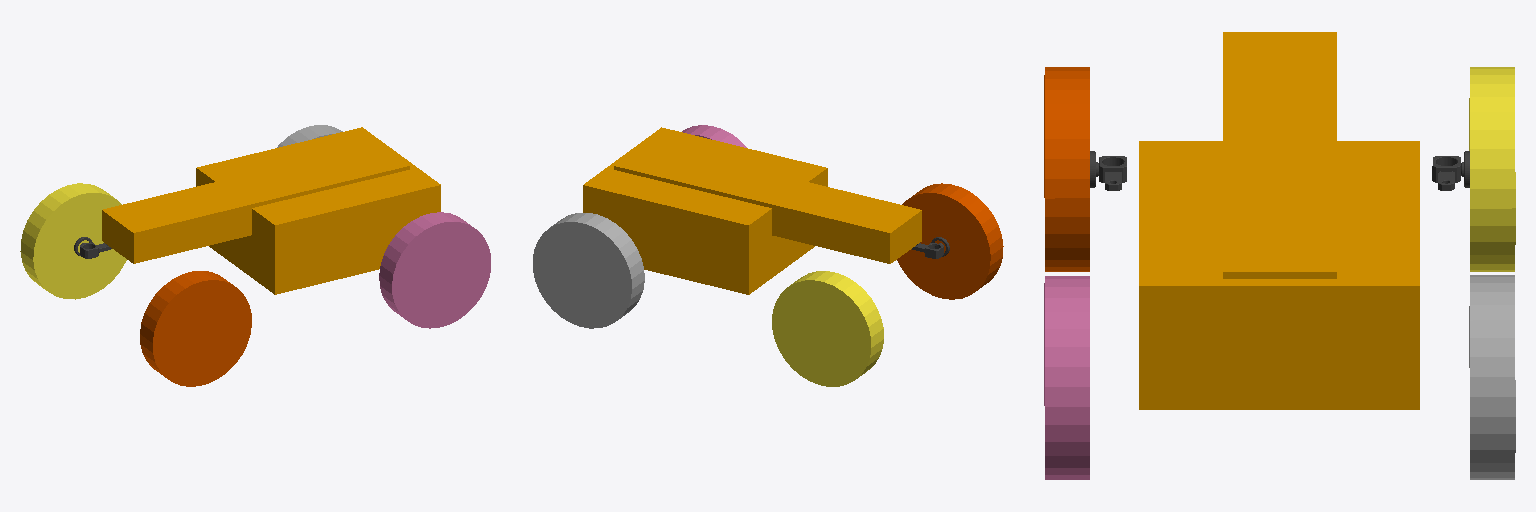
robot.urdf — hunter_v1:
<?xml version="1.0" encoding="utf-8"?>
<!-- =================================================================================== -->
<!-- |    This document was autogenerated by xacro from hunter_v1.xacro                | -->
<!-- |    EDITING THIS FILE BY HAND IS NOT RECOMMENDED                                 | -->
<!-- =================================================================================== -->
<robot name="hunter_v1">
  <!-- Base link -->
  <link name="base_link">
    <visual>
      <origin rpy="0 0 0" xyz="0 0 0"/>
      <geometry>
        <mesh filename="package://hunter_description/meshes/base_link.dae"/>
      </geometry>
    </visual>
    <visual>
      <origin rpy="0 0 0" xyz="0 0 0.12"/>
      <geometry>
        <box size="0.75 0.15 0.08"/>
      </geometry>
    </visual>
    <visual>
      <origin rpy="0 0 0" xyz="0.17 0 0.06"/>
      <geometry>
        <box size="0.45 0.37 0.18"/>
      </geometry>
    </visual>
    <collision>
      <origin rpy="0 0 0" xyz="0.29 0 0.05"/>
      <geometry>
        <box size="0.25 0.38 0.26"/>
      </geometry>
    </collision>
    <collision>
      <origin rpy="0 0 0" xyz="-0.1 0 0.07"/>
      <geometry>
        <box size="0.56 0.38 0.22"/>
      </geometry>
    </collision>
    <inertial>
      <mass value="40"/>
      <origin xyz="0.0 0.0 0.0"/>
      <inertia ixx="2.288641" ixy="0" ixz="0" iyy="5.103976" iyz="0" izz="3.431465"/>
    </inertial>
  </link>
  <link name="base_footprint"/>
  <joint name="base_footprint_joint" type="fixed">
    <origin rpy="0 0 0" xyz="0 0 -0.18109"/>
    <parent link="base_link"/>
    <child link="base_footprint"/>
  </joint>
  <!-- front right wheel -->
  <joint name="front_right_steering" type="revolute">
    <origin rpy="0 0 0" xyz="-0.324285 0.22 -0.0165"/>
    <parent link="base_link"/>
    <child link="front_right_steer_link"/>
    <axis rpy="0 0 0" xyz="0 0 1"/>
    <limit effort="20" lower="-0.785" upper="0.785" velocity="0.8"/>
  </joint>
  <link name="front_right_steer_link">
    <inertial>
      <mass value="3"/>
      <origin xyz="0 0 0"/>
      <inertia ixx="0.7171" ixy="0" ixz="0" iyy="0.1361" iyz="0" izz="0.7171"/>
    </inertial>
    <visual>
      <origin rpy="0 0 0" xyz="0 0.06 0"/>
      <geometry>
        <mesh filename="package://hunter_description/meshes/steer_conn_fr.dae"/>
      </geometry>
    </visual>
  </link>
  <joint name="front_right_wheel" type="continuous">
    <origin rpy="0 0 0" xyz="0 0.06 0"/>
    <parent link="front_right_steer_link"/>
    <child link="front_right_wheel_link"/>
    <axis rpy="0 0 0" xyz="0 -1 0"/>
  </joint>
  <link name="front_right_wheel_link">
    <inertial>
      <mass value="3"/>
      <origin xyz="0 0 0"/>
      <inertia ixx="0.7171" ixy="0" ixz="0" iyy="0.1361" iyz="0" izz="0.7171"/>
    </inertial>
    <visual>
      <origin rpy="0 0 0" xyz="0 0 0"/>
      <geometry>
        <mesh filename="package://hunter_description/meshes/wheel_fr.dae"/>
      </geometry>
    </visual>
    <visual>
      <origin rpy="0 0 0" xyz="0 0 0"/>
      <geometry>
        <mesh filename="package://hunter_description/meshes/hub_shape.stl"/>
      </geometry>
    </visual>
    <collision>
      <origin rpy="1.570795 0 0" xyz="0 0 0"/>
      <geometry>
        <cylinder length="0.11653" radius="0.16459"/>
      </geometry>
    </collision>
  </link>
  <!-- front left wheel -->
  <joint name="front_left_steering" type="revolute">
    <origin rpy="0 0 0" xyz="-0.324285 -0.22 -0.0165"/>
    <parent link="base_link"/>
    <child link="front_left_steer_link"/>
    <axis rpy="0 0 0" xyz="0 0 1"/>
    <limit effort="20" lower="-0.785" upper="0.785" velocity="0.8"/>
  </joint>
  <link name="front_left_steer_link">
    <inertial>
      <mass value="3"/>
      <origin xyz="0 0 0"/>
      <inertia ixx="0.7171" ixy="0" ixz="0" iyy="0.1361" iyz="0" izz="0.7171"/>
    </inertial>
    <visual>
      <origin rpy="0 0 0" xyz="0 -0.06 0"/>
      <geometry>
        <mesh filename="package://hunter_description/meshes/steer_conn_fl.dae"/>
      </geometry>
    </visual>
  </link>
  <joint name="front_left_wheel" type="continuous">
    <origin rpy="0 0 0" xyz="0 -0.06 0"/>
    <parent link="front_left_steer_link"/>
    <child link="front_left_wheel_link"/>
    <axis rpy="0 0 0" xyz="0 -1 0"/>
  </joint>
  <link name="front_left_wheel_link">
    <inertial>
      <mass value="3"/>
      <origin xyz="0 0 0"/>
      <inertia ixx="0.7171" ixy="0" ixz="0" iyy="0.1361" iyz="0" izz="0.7171"/>
    </inertial>
    <visual>
      <origin rpy="0 0 0" xyz="0 0 0"/>
      <geometry>
        <mesh filename="package://hunter_description/meshes/wheel_fl.dae"/>
      </geometry>
    </visual>
    <visual>
      <origin rpy="0 0 3.14" xyz="0 0 0"/>
      <geometry>
        <mesh filename="package://hunter_description/meshes/hub_shape.stl"/>
      </geometry>
    </visual>
    <collision>
      <origin rpy="1.570795 0 0" xyz="0 0 0"/>
      <geometry>
        <cylinder length="0.11653" radius="0.16459"/>
      </geometry>
    </collision>
  </link>
  <!-- rear left wheel -->
  <link name="rear_left_wheel_link">
    <inertial>
      <mass value="3"/>
      <origin xyz="0 0 0"/>
      <inertia ixx="0.7171" ixy="0" ixz="0" iyy="0.1361" iyz="0" izz="0.7171"/>
    </inertial>
    <visual>
      <origin rpy="0 0 0" xyz="0 0 0"/>
      <geometry>
        <mesh filename="package://hunter_description/meshes/wheel_rl.dae"/>
      </geometry>
    </visual>
    <visual>
      <origin rpy="0 0 3.14" xyz="0 0 0"/>
      <geometry>
        <mesh filename="package://hunter_description/meshes/hub_shape.stl"/>
      </geometry>
    </visual>
    <collision>
      <origin rpy="1.570795 0 0" xyz="0 0 0"/>
      <geometry>
        <cylinder length="0.11653" radius="0.16459"/>
      </geometry>
    </collision>
  </link>
  <joint name="rear_left_wheel" type="continuous">
    <origin rpy="0 0 0" xyz="0.324285 -0.28 -0.0165"/>
    <parent link="base_link"/>
    <child link="rear_left_wheel_link"/>
    <axis rpy="0 0 0" xyz="0 -1 0"/>
  </joint>
  <!-- rear right wheel -->
  <link name="rear_right_wheel_link">
    <inertial>
      <mass value="3"/>
      <origin xyz="0 0 0"/>
      <inertia ixx="0.7171" ixy="0" ixz="0" iyy="0.1361" iyz="0" izz="0.7171"/>
    </inertial>
    <visual>
      <origin rpy="0 0 0" xyz="0 0 0"/>
      <geometry>
        <mesh filename="package://hunter_description/meshes/wheel_rr.dae"/>
      </geometry>
    </visual>
    <visual>
      <origin rpy="0 0 0" xyz="0 0 0"/>
      <geometry>
        <mesh filename="package://hunter_description/meshes/hub_shape.stl"/>
      </geometry>
    </visual>
    <collision>
      <origin rpy="1.570795 0 0" xyz="0 0 0"/>
      <geometry>
        <cylinder length="0.11653" radius="0.16459"/>
      </geometry>
    </collision>
  </link>
  <joint name="rear_right_wheel" type="continuous">
    <origin rpy="0 0 0" xyz="0.324285 0.28 -0.0165"/>
    <parent link="base_link"/>
    <child link="rear_right_wheel_link"/>
    <axis rpy="0 0 0" xyz="0 -1 0"/>
  </joint>
</robot>

--- Facts derived from the render (not from the file) ---
The picture shows the robot from 3 angles, left to right: view 1: azimuth 30°, elevation 25°; view 2: azimuth 150°, elevation 25°; view 3: azimuth 270°, elevation 25°; orthographic projection.
Model hunter_v1 with 8 links and 7 joints (2 revolute, 4 continuous, 1 fixed), rooted at base_link, posed every joint at zero.
Visible links, largest first — view 1: base_link, front_left_wheel_link, rear_left_wheel_link, front_right_wheel_link, rear_right_wheel_link; view 2: base_link, front_right_wheel_link, rear_right_wheel_link, front_left_wheel_link, rear_left_wheel_link; view 3: base_link, rear_right_wheel_link, front_right_wheel_link, front_left_wheel_link, rear_left_wheel_link, front_right_steer_link, front_left_steer_link.
Boxes of the visible links, x1=… form: base_link: x1=102, y1=127, x2=440, y2=294; front_left_wheel_link: x1=140, y1=271, x2=251, y2=386; rear_left_wheel_link: x1=379, y1=212, x2=490, y2=328; front_right_wheel_link: x1=20, y1=183, x2=126, y2=299; rear_right_wheel_link: x1=277, y1=125, x2=342, y2=147; base_link: x1=583, y1=127, x2=921, y2=294; front_right_wheel_link: x1=772, y1=271, x2=883, y2=386; rear_right_wheel_link: x1=533, y1=213, x2=644, y2=328; front_left_wheel_link: x1=897, y1=183, x2=1003, y2=299; rear_left_wheel_link: x1=682, y1=125, x2=746, y2=147; base_link: x1=1139, y1=32, x2=1419, y2=409; rear_right_wheel_link: x1=1469, y1=275, x2=1515, y2=479; front_right_wheel_link: x1=1469, y1=67, x2=1515, y2=271; front_left_wheel_link: x1=1044, y1=67, x2=1089, y2=271; rear_left_wheel_link: x1=1044, y1=276, x2=1089, y2=479; front_right_steer_link: x1=1432, y1=151, x2=1469, y2=190; front_left_steer_link: x1=1090, y1=151, x2=1126, y2=190.
Bounding box of the posed robot: 0.9184 × 0.6204 × 0.3114 m (x, y, z).
6 mesh visuals loaded from 8 distinct referenced files (1 binary STL, 2 Collada DAE); not drawn: 5 (reference not matched to a file when rendering).
